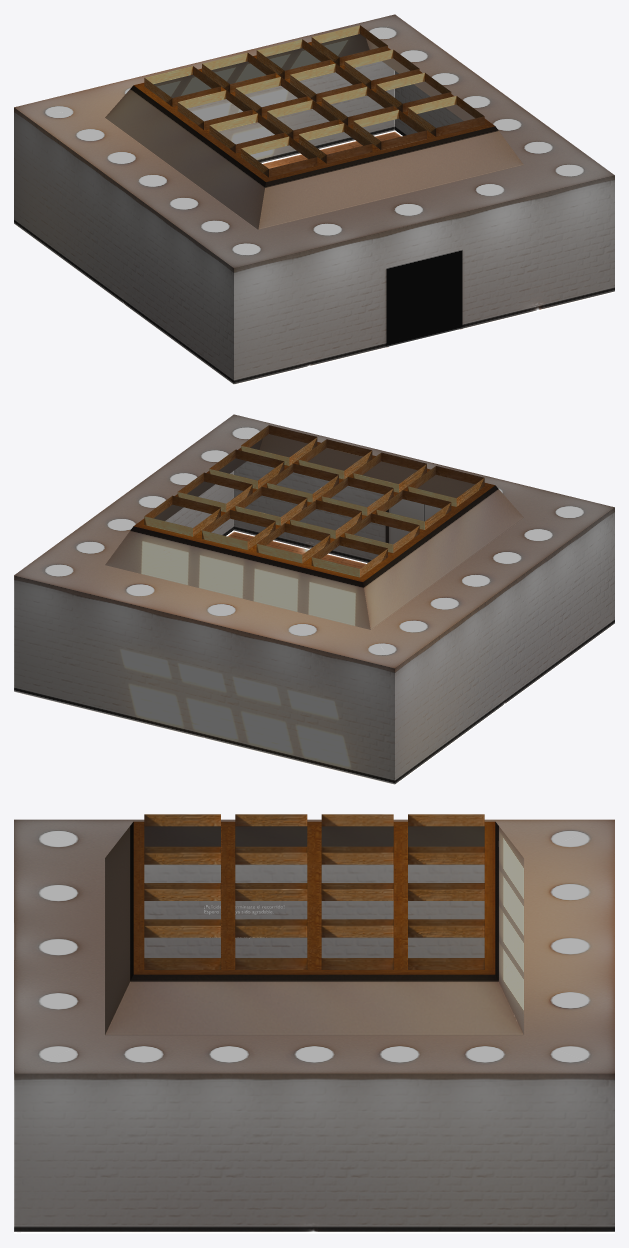
Rendered from seis.glb.
The picture shows the model from 3 angles, top to bottom: view 1: azimuth 30°, elevation 25°; view 2: azimuth 150°, elevation 25°; view 3: azimuth 270°, elevation 25°; orthographic projection. The views are drawn at different scales.
Parts seen in each view (by area): view 1: Room4k-material; view 2: Room4k-material; view 3: Room4k-material.
Boxes of the visible parts, bbox=[...] form: Room4k-material: bbox=[14, 14, 614, 385]; Room4k-material: bbox=[14, 414, 614, 785]; Room4k-material: bbox=[14, 814, 614, 1233].
Size of the model in its own units: 11.09 by 4.5 by 11.09.
2 materials, 1 textured.
